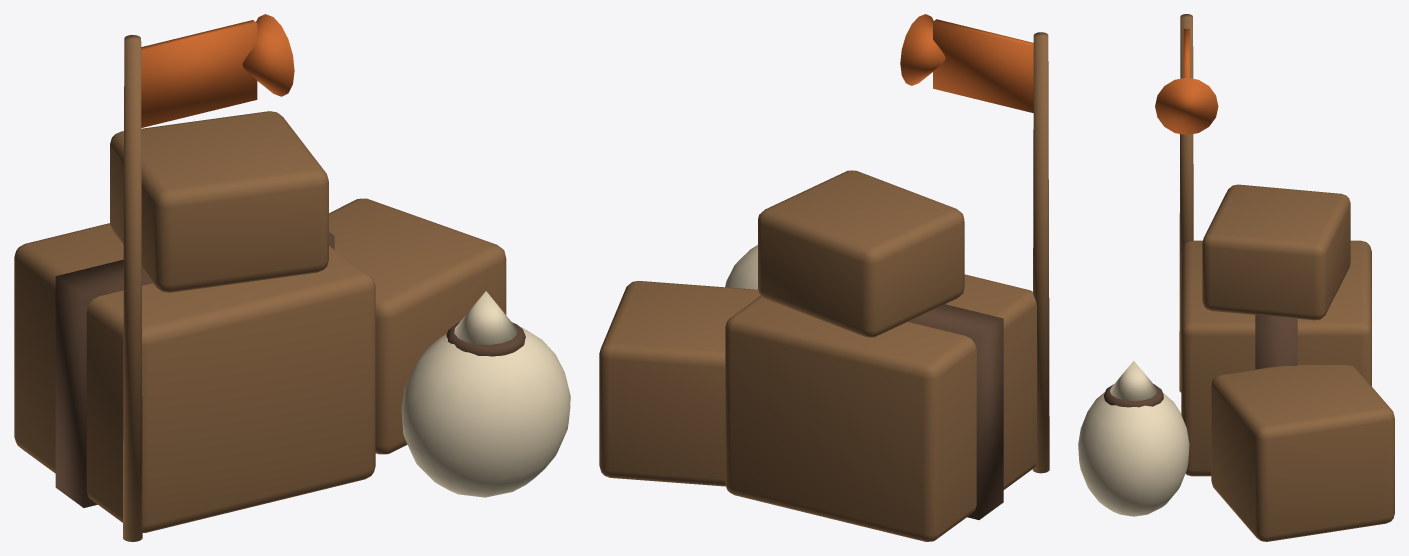
Rendered from SupplyLine.fbx.
3 renders of one model, left to right at view 1: azimuth 30°, elevation 25°; view 2: azimuth 150°, elevation 25°; view 3: azimuth 270°, elevation 25°, orthographic. The views are drawn at different scales.
Parts seen in each view (by area): view 1: SupplyLine; view 2: SupplyLine; view 3: SupplyLine.
Boxes of the visible parts, left/top/right/bottom form: SupplyLine: left=14, top=14, right=570, bottom=541; SupplyLine: left=599, top=14, right=1049, bottom=541; SupplyLine: left=1078, top=14, right=1394, bottom=541.
Bounding box in the file's own units: 0.7075 × 0.7886 × 0.5988.
